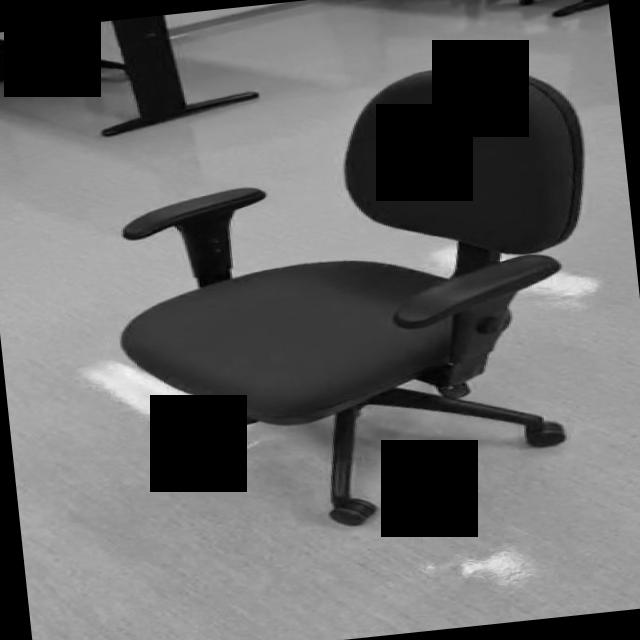cadeira-azul: (91, 52, 622, 548)
